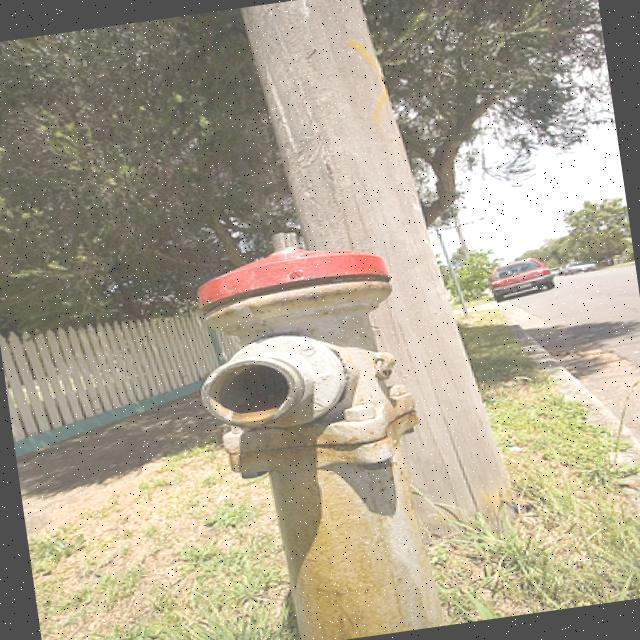fire_hydrant: (164, 213, 432, 640)
